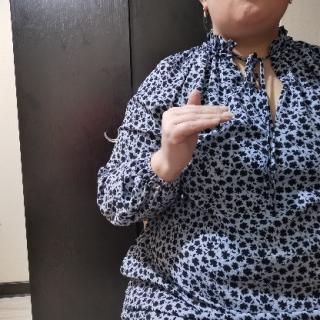KHAA: (154, 88, 238, 172)
